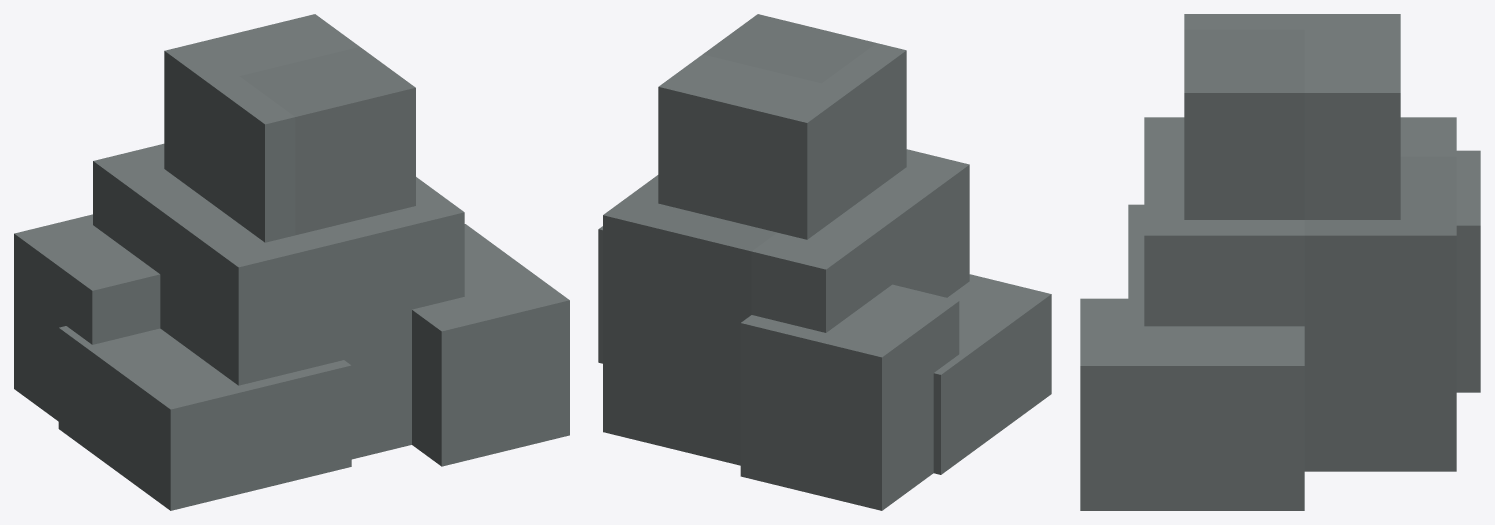
The model's file is SM_VMF_Nature_Rock_Medium.fbx.
3 renders of one model, left to right at view 1: azimuth 30°, elevation 25°; view 2: azimuth 150°, elevation 25°; view 3: azimuth 270°, elevation 25°, orthographic. The views are drawn at different scales.
Visible parts, largest first — view 1: SM_VMF_Nature_Rock_Medium_Stone; view 2: SM_VMF_Nature_Rock_Medium_Stone; view 3: SM_VMF_Nature_Rock_Medium_Stone.
Part boxes in pixels (x1=…): SM_VMF_Nature_Rock_Medium_Stone: x1=14, y1=14, x2=569, y2=510; SM_VMF_Nature_Rock_Medium_Stone: x1=598, y1=14, x2=1051, y2=510; SM_VMF_Nature_Rock_Medium_Stone: x1=1080, y1=14, x2=1480, y2=510.
Size of the model in its own units: 56 by 48 by 48.
1 material, 1 textured.
